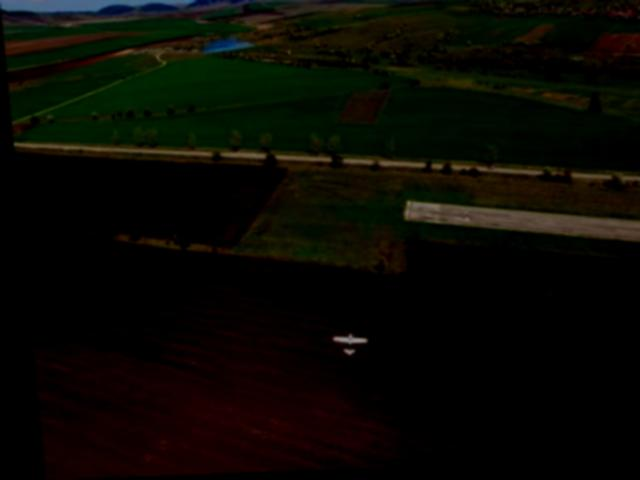uav: (321, 326, 363, 363)
